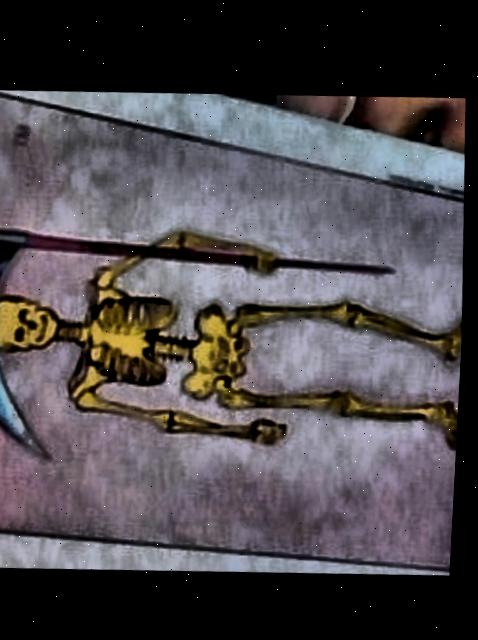La Muerte: (0, 92, 466, 563)
